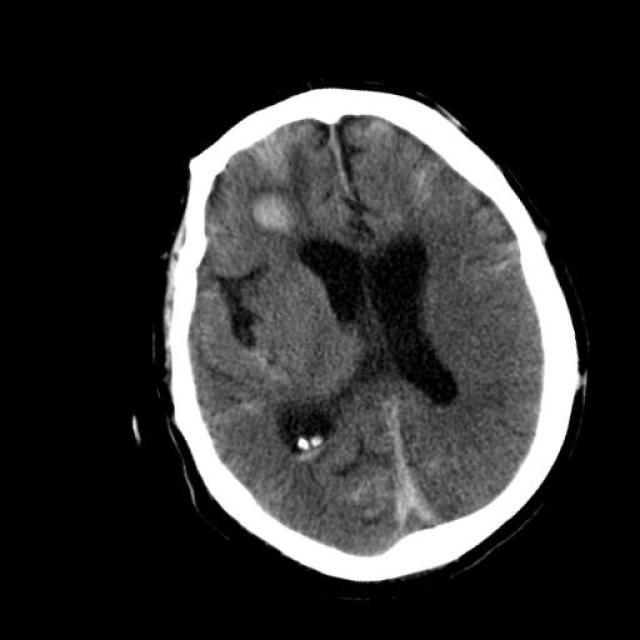Intraparenchymal: (213, 136, 341, 254)
Subarachnoid: (438, 220, 528, 308), (199, 377, 277, 447), (388, 162, 448, 228)
Subdural: (354, 383, 456, 552)
